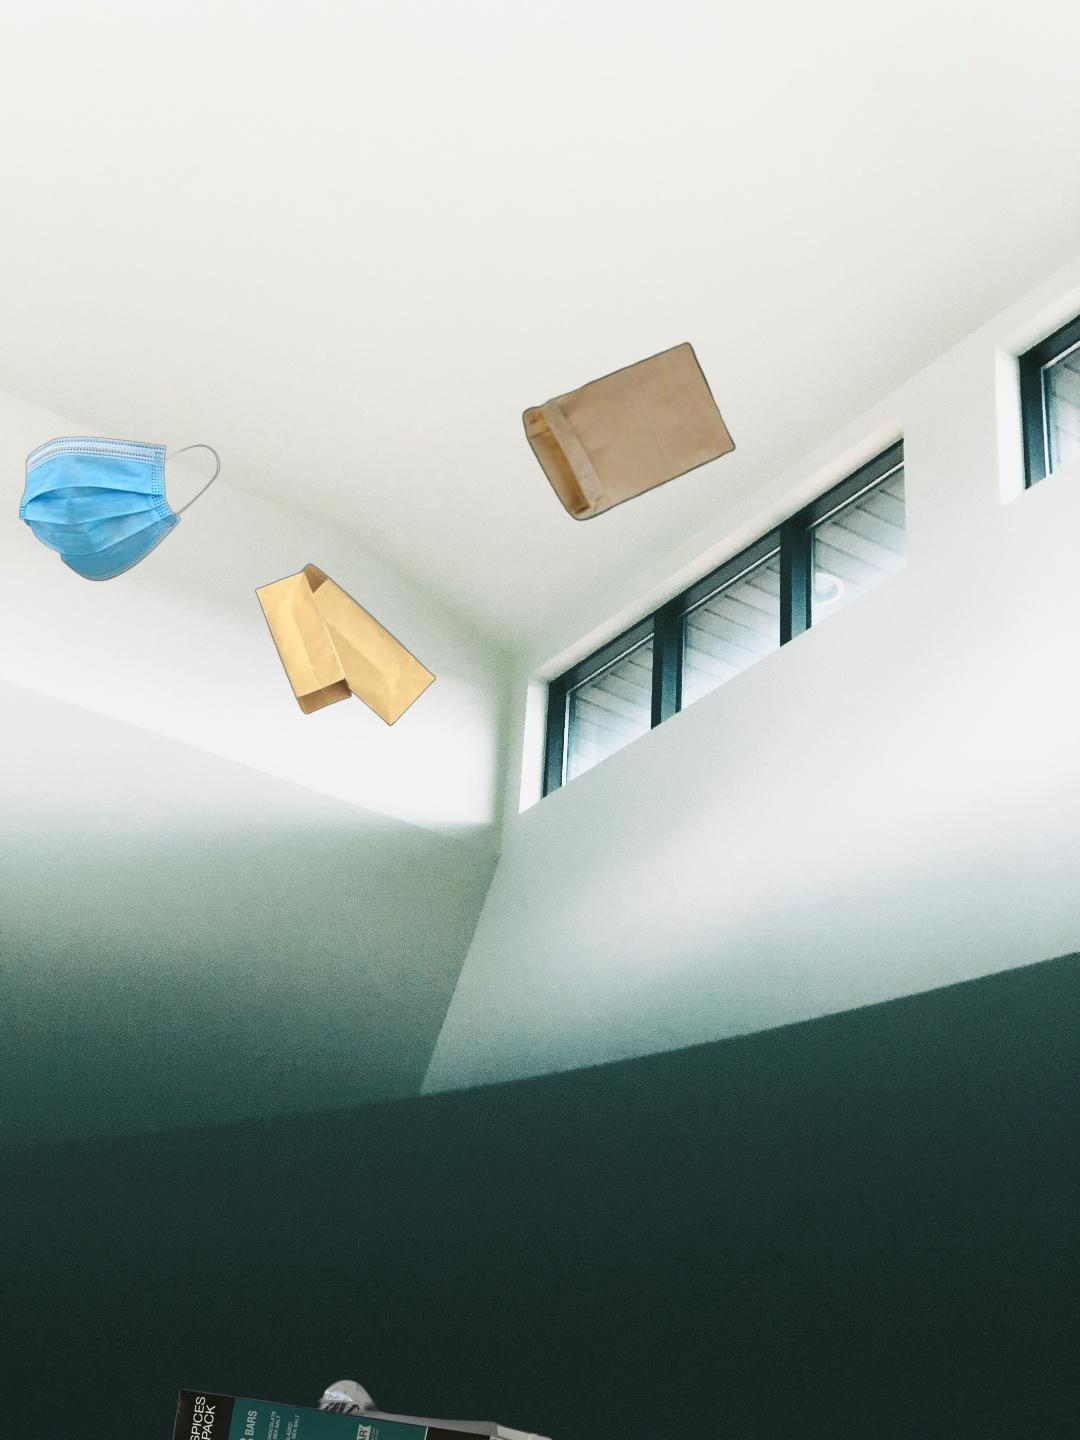paper: (152, 1377, 576, 1440)
paper-bag: (518, 339, 739, 524), (252, 562, 439, 729)
trash: (17, 434, 223, 584)
